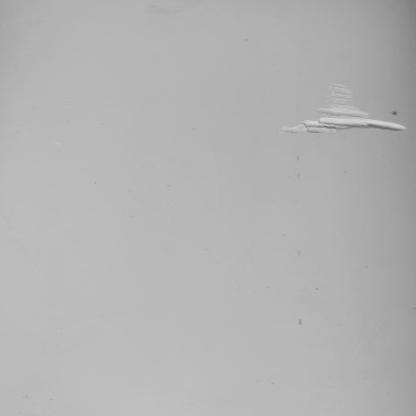sunshang: (282, 79, 409, 137)
